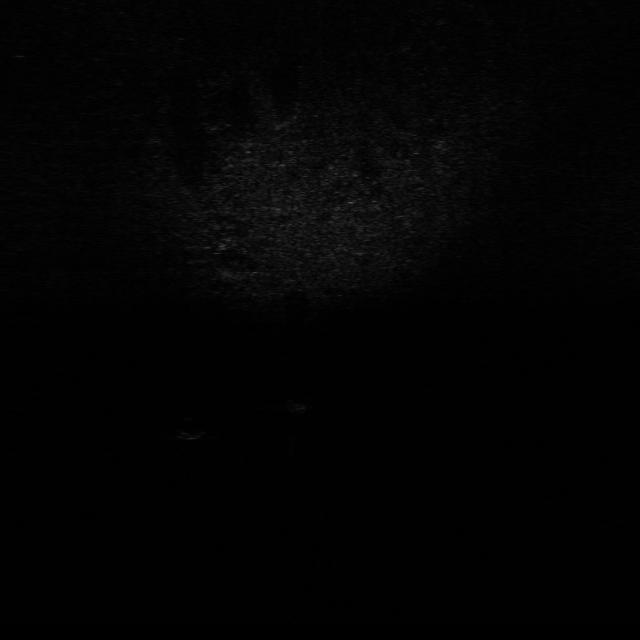ball: (172, 416, 209, 443)
cube: (276, 394, 318, 417)
